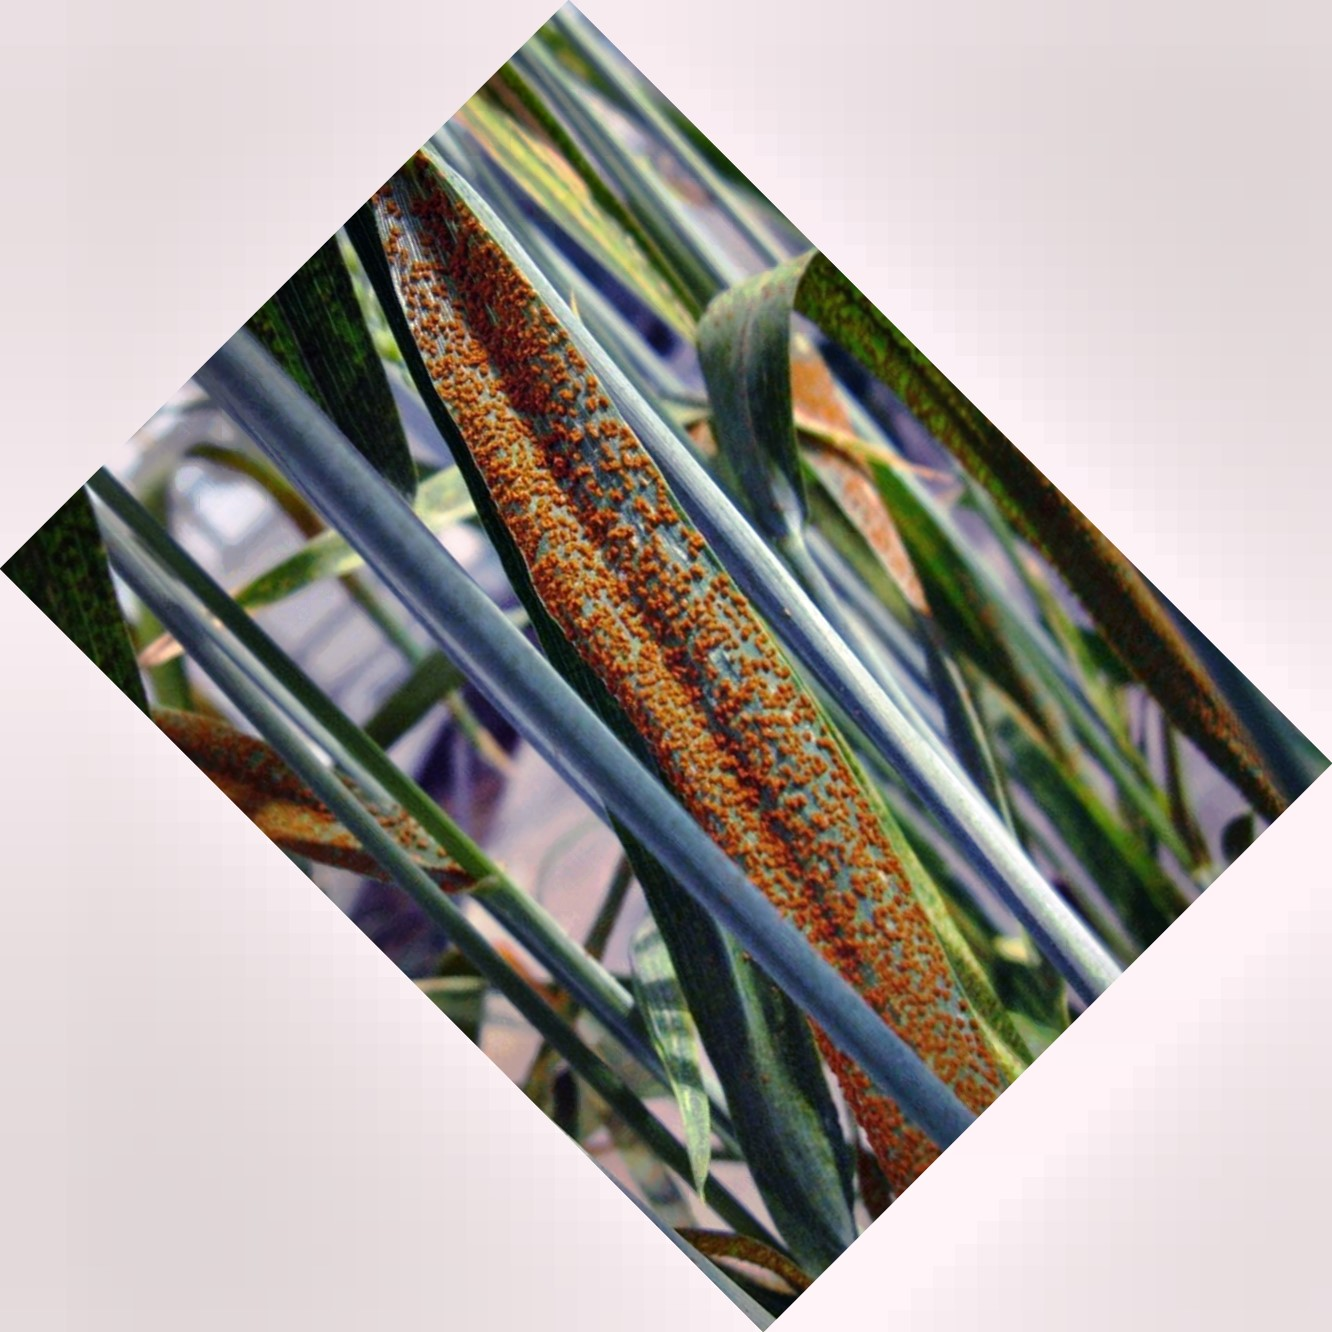Leaf Rust: (399, 267, 983, 1070)
